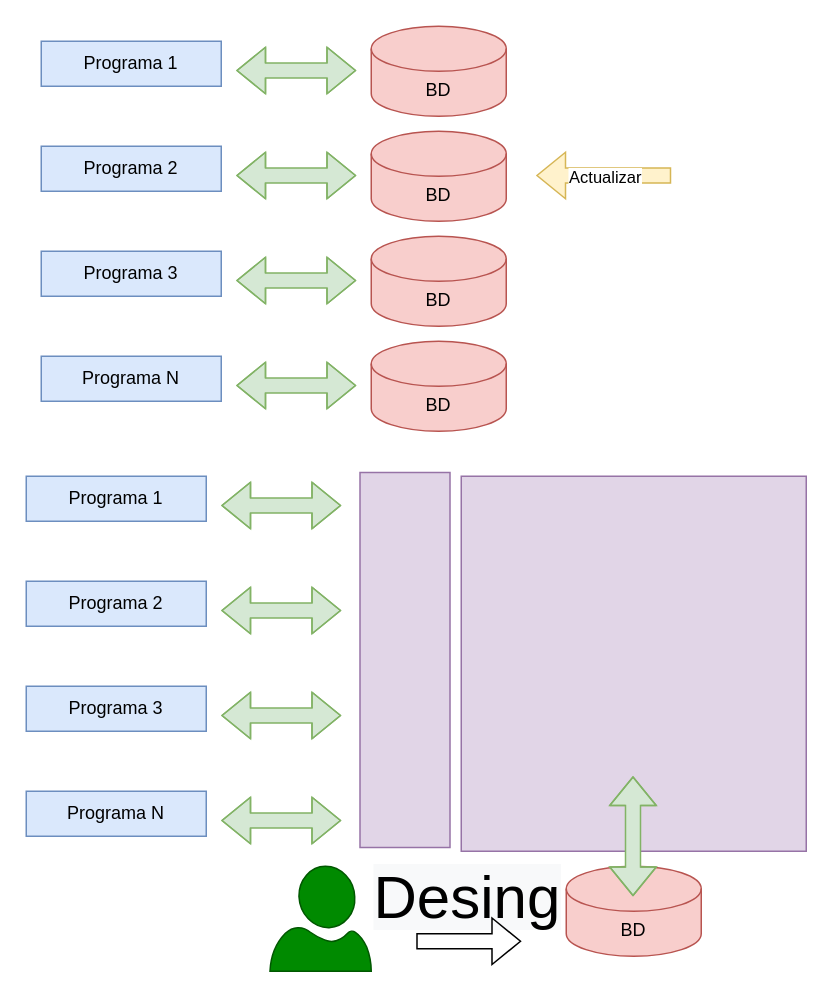
This 833x998 diagram has some shape labels left out. Here are the shapes that lost their labels. From the top down, the centre of each, then its label:
point (404, 659): Interface
point (633, 663): DBMS
